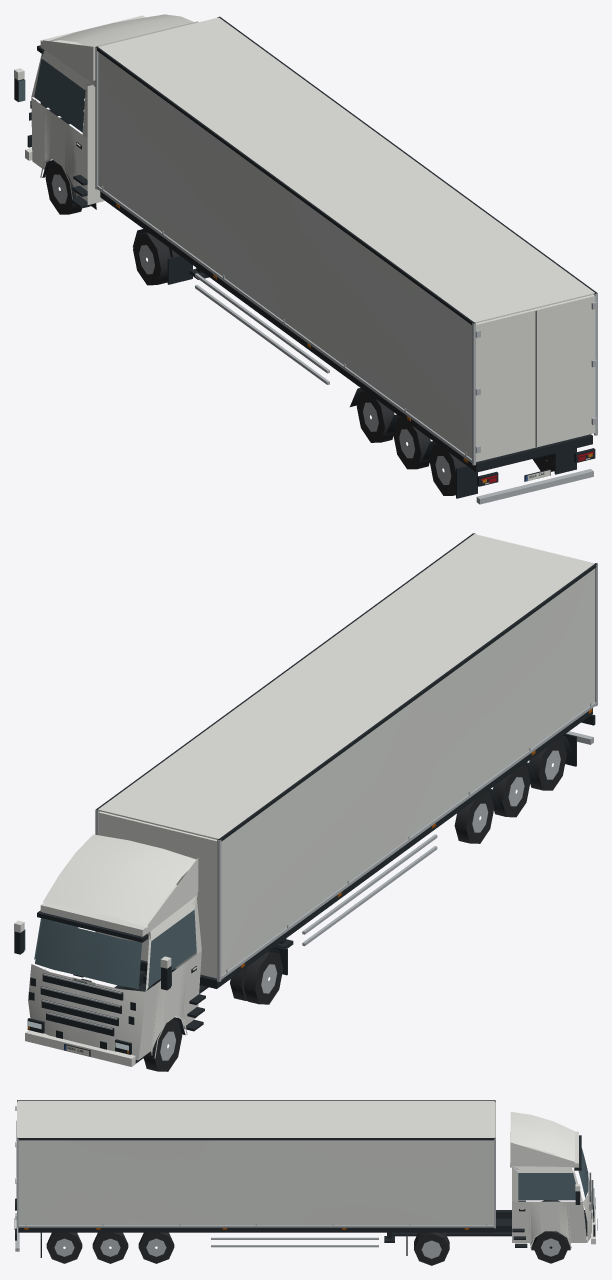
Rendered from Entrega_02_Scania_Tauliner_LOD2.glb.
3 renders of one model, top to bottom at view 1: azimuth 30°, elevation 25°; view 2: azimuth 150°, elevation 25°; view 3: azimuth 270°, elevation 25°, orthographic. The views are drawn at different scales.
Visible parts, largest first — view 1: Cargo, Canvas, Body (×2), Glass, Wheel_RL, Wheel_Trailer_2L, Wheel_Trailer_1L, Wheel_FL, Wheel_Trailer_3L; view 2: Canvas, Cargo, Body (×2), Glass, Wheel_RL, Wheel_Trailer_1L, Wheel_Trailer_2L, Wheel_Trailer_3L, Wheel_FL; view 3: Canvas, Cargo, Body (×2), Glass, Wheel_RR, Wheel_Trailer_2R, Wheel_Trailer_3R, Wheel_Trailer_1R, Wheel_FR.
Boxes of the visible parts, x1,y1,x2,y2 form: Cargo: (98,17,597,461); Canvas: (98,52,471,458); Body (×2): (14,14,597,504); Glass: (19,54,84,132); Wheel_RL: (133,232,179,285); Wheel_Trailer_2L: (393,417,430,469); Wheel_Trailer_1L: (357,391,394,442); Wheel_FL: (45,162,81,214); Wheel_Trailer_3L: (429,444,466,495); Canvas: (221,568,594,975); Cargo: (98,534,594,978); Body (×2): (14,533,597,1066); Glass: (24,910,196,989); Wheel_RL: (230,951,283,1004); Wheel_Trailer_1L: (454,792,494,843); Wheel_Trailer_2L: (493,765,530,817); Wheel_Trailer_3L: (529,739,566,790); Wheel_FL: (143,1019,182,1071); Canvas: (18,1140,493,1225); Cargo: (15,1100,495,1219); Body (×2): (14,1100,597,1257); Glass: (518,1148,588,1200); Wheel_RR: (414,1232,449,1265); Wheel_Trailer_2R: (92,1232,128,1263); Wheel_Trailer_3R: (46,1232,82,1263); Wheel_Trailer_1R: (138,1232,174,1263); Wheel_FR: (533,1231,568,1263).
Bounding box in the file's own units: 3.2 × 4.02 × 16.65.
Materials: 13 (2 with a texture image).
